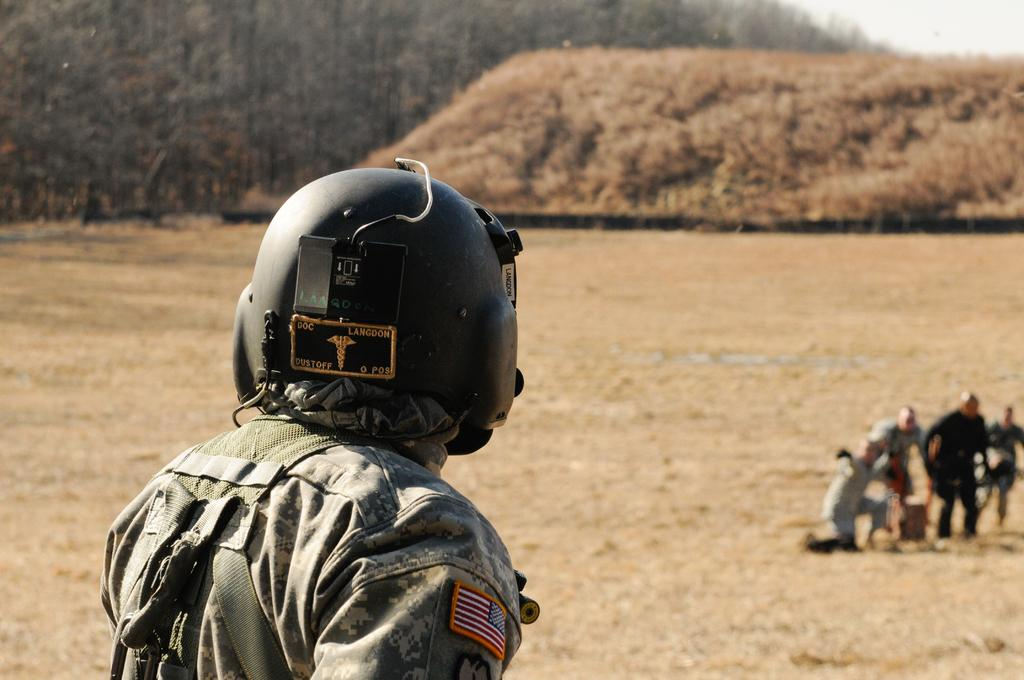helmet: (231, 167, 519, 458)
